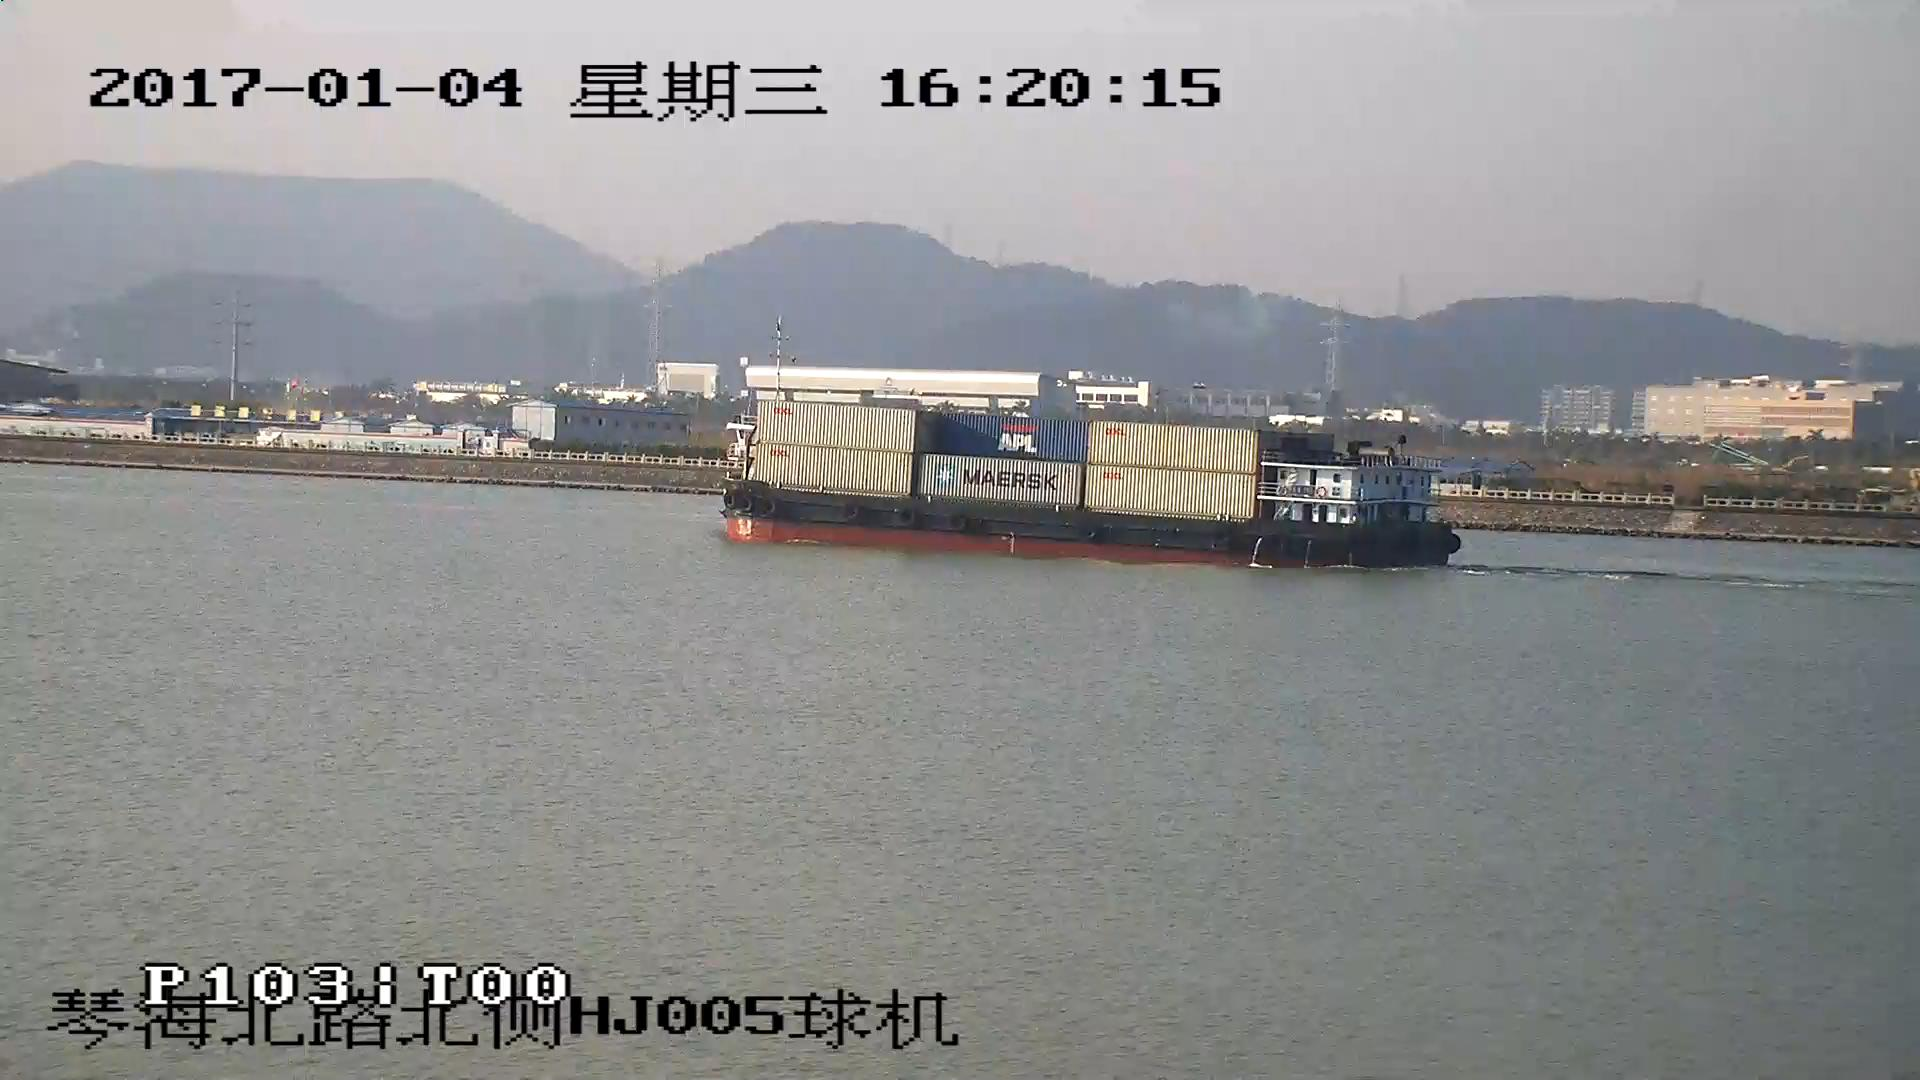container ship: (716, 398, 1459, 568)
